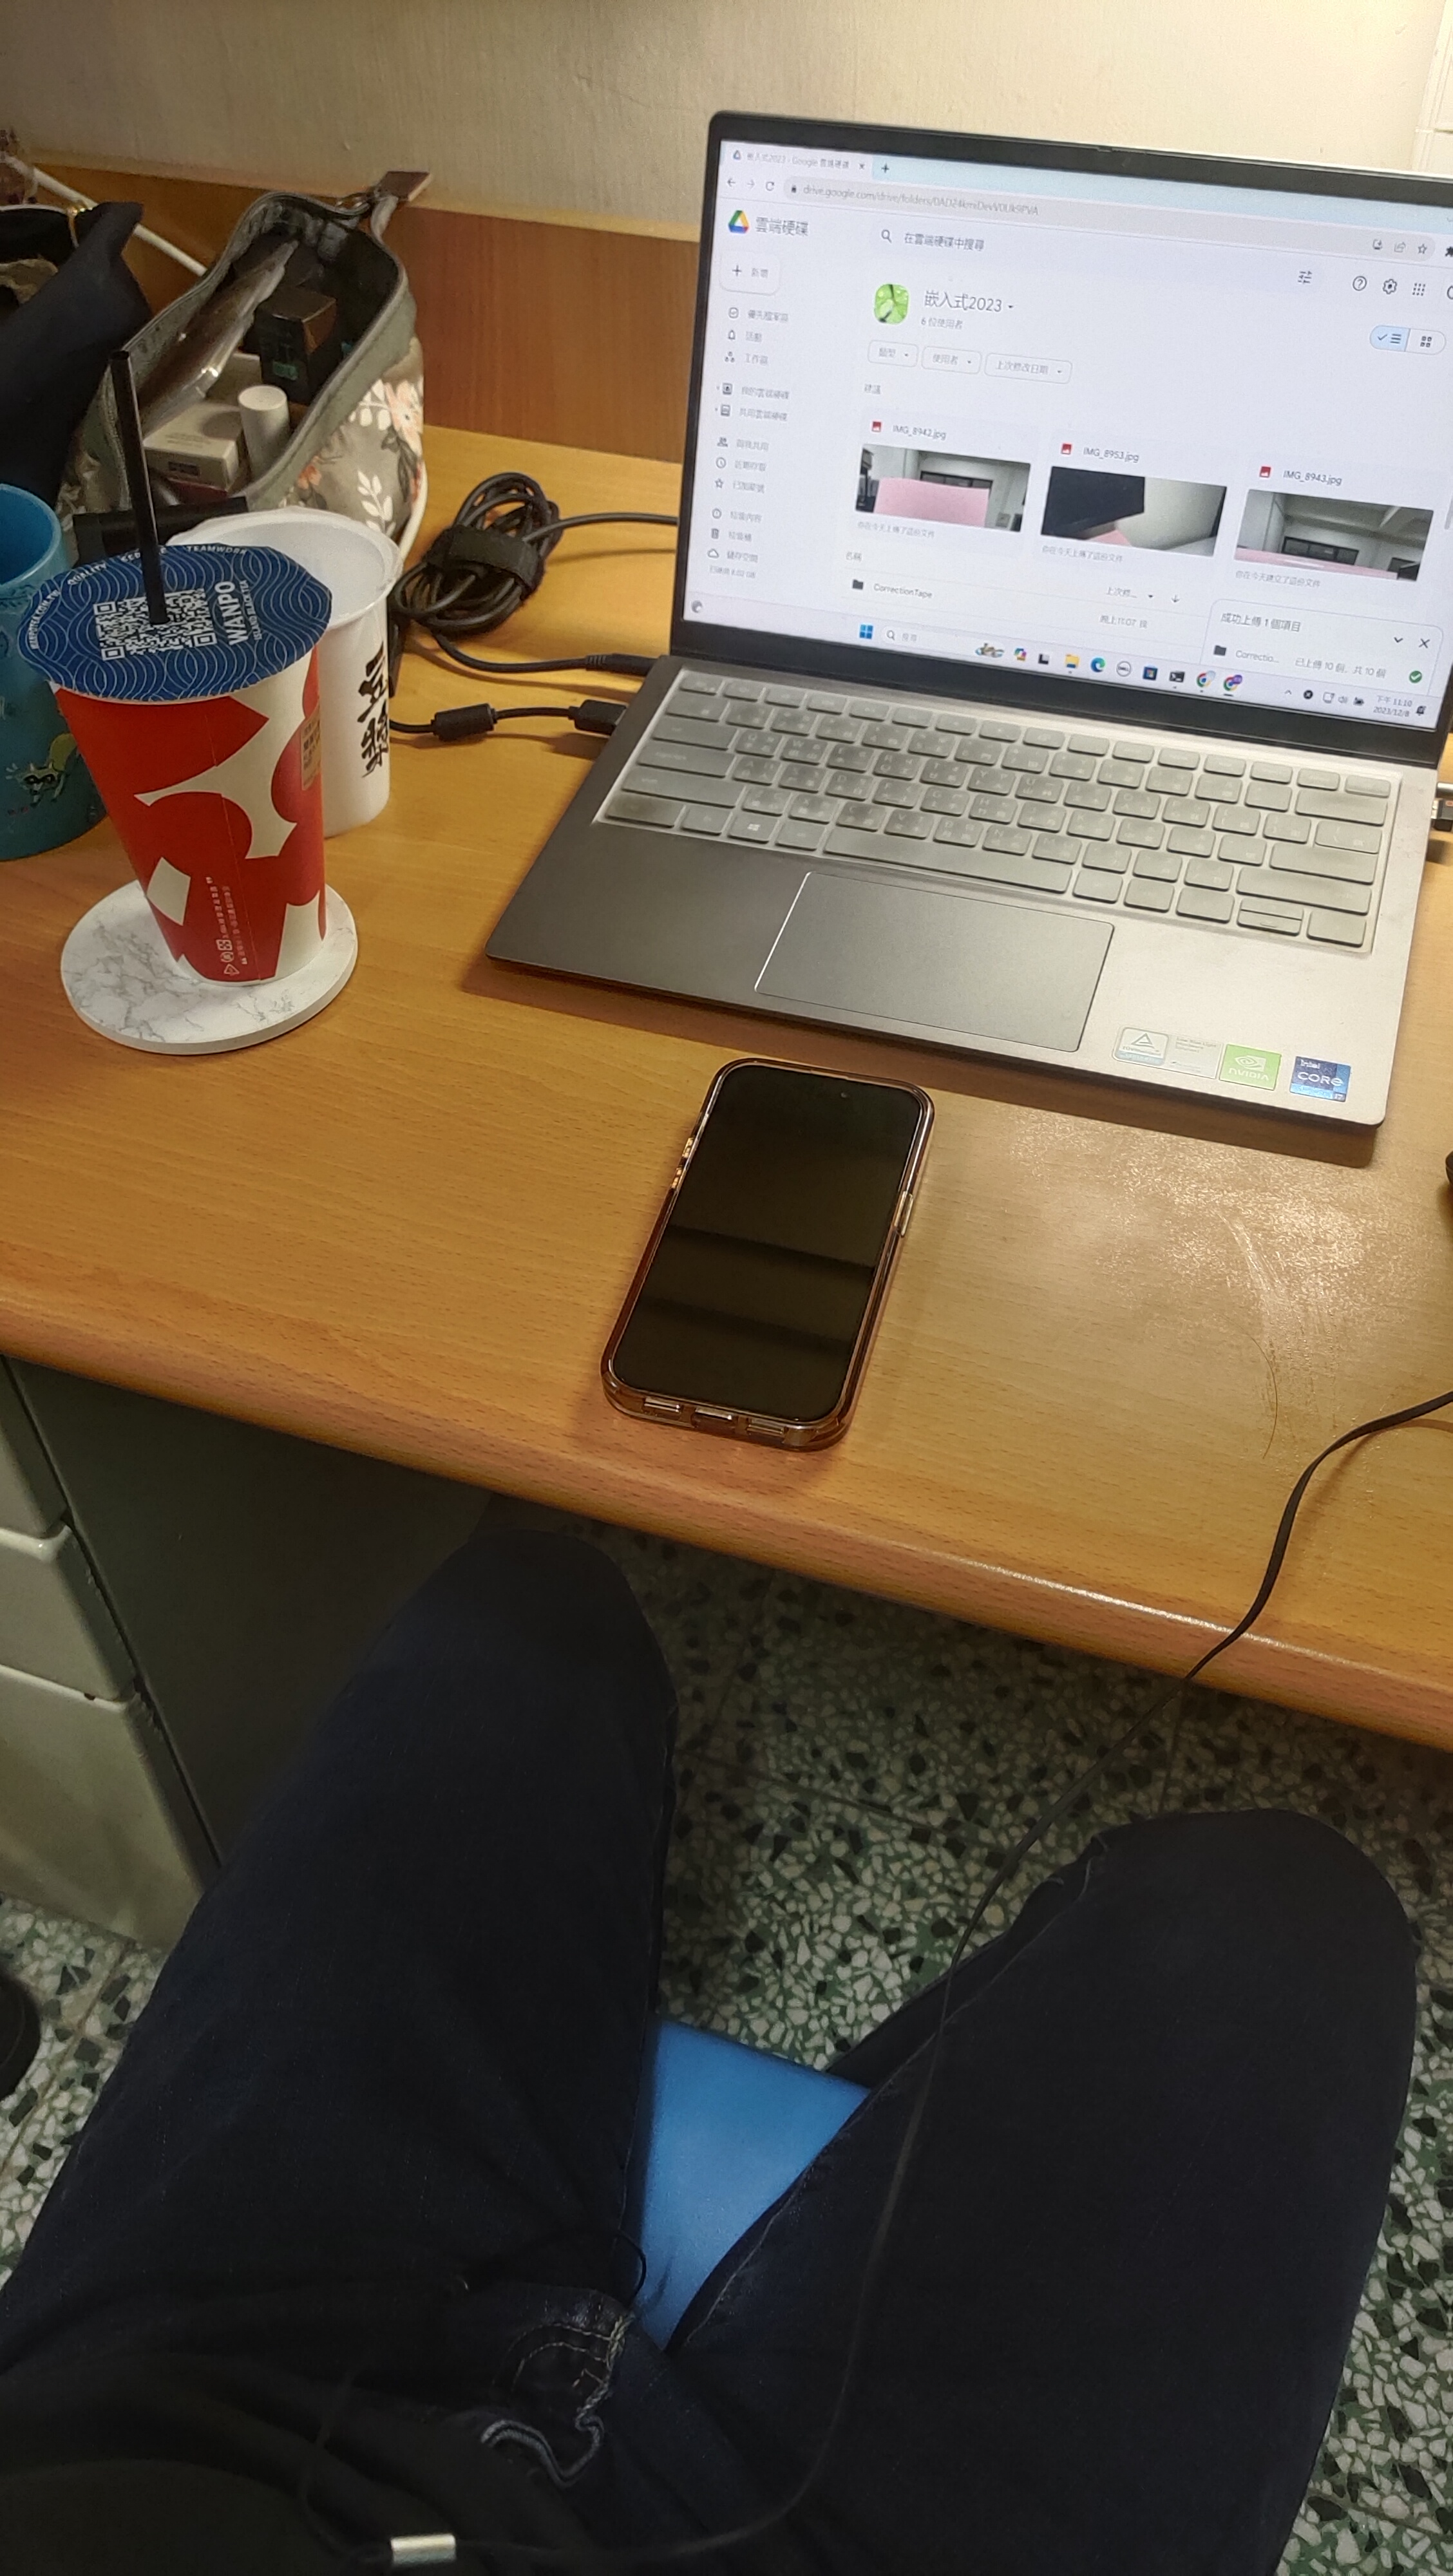iphone: (603, 1054, 940, 1456)
